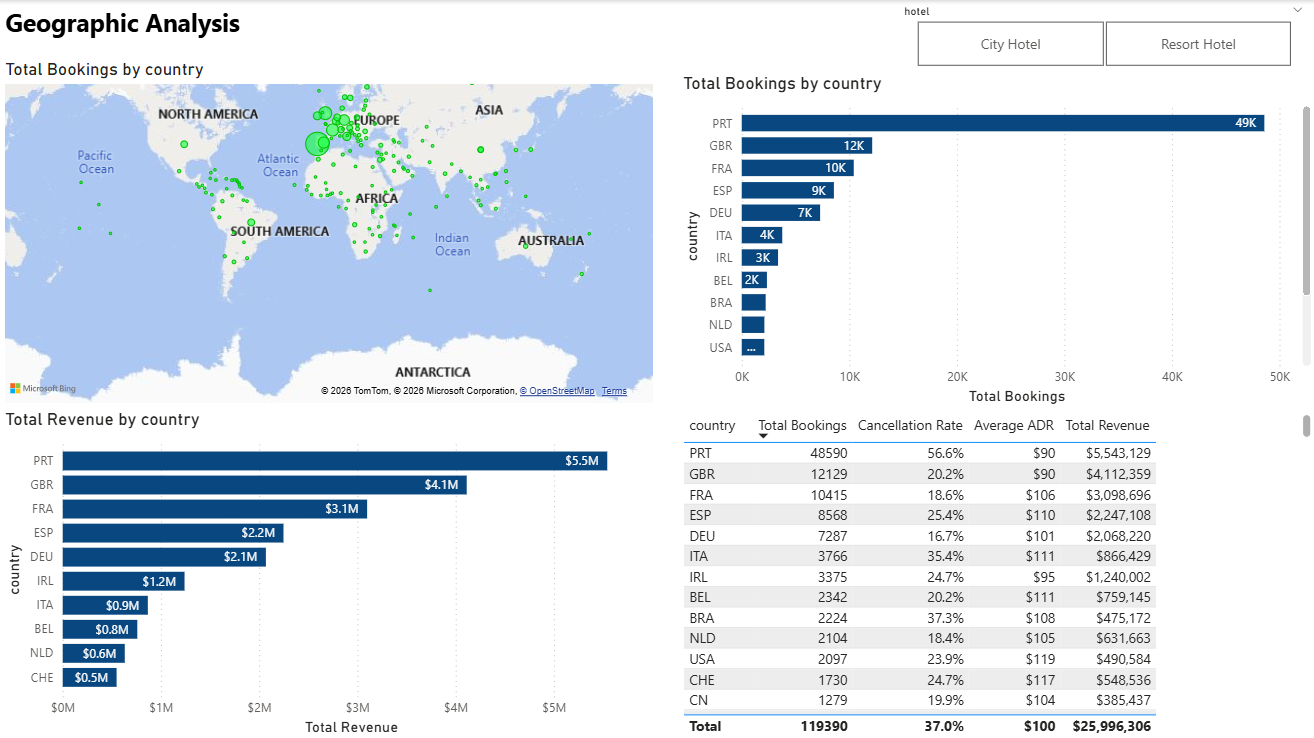

This screenshot's page, from the dashboard's own definition file:
{"tool":"powerbi","page":{"name":"Geographic Analysis","canvas":[1280,720],"ordinal":5},"visuals":[{"type":"textbox","box":[0,0,280.2,48.1],"z":0},{"type":"map","fields":{"Category":["hotel_bookings_clean.country"],"Size":["hotel_bookings_clean.Total Bookings"]},"box":[0,57.4,640,340.4],"z":1},{"type":"clusteredBarChart","fields":{"Category":["hotel_bookings_clean.country"],"Y":["hotel_bookings_clean.Total Bookings"]},"box":[659.5,71,620.5,326.8],"z":2},{"type":"clusteredBarChart","fields":{"Y":["hotel_bookings_clean.Total Revenue"],"Category":["hotel_bookings_clean.country"]},"box":[0,397.8,640,321.9],"z":3},{"type":"tableEx","fields":{"Values":["hotel_bookings_clean.country","hotel_bookings_clean.Total Bookings","hotel_bookings_clean.Cancellation Rate","hotel_bookings_clean.Average ADR","hotel_bookings_clean.Total Revenue"]},"box":[659.5,397.8,620.5,321.9],"z":4},{"type":"slicer","fields":{"Values":["hotel_bookings_clean.hotel"]},"box":[866.6,0,413.4,71],"z":5}]}

Visuals, with their boxes in screenshot pixels (x1, y1, x2, y2), scaled from the page's 1280x720 canvas onto the 1314x738 screenshot:
textbox: 0/0/288/49
map - hotel_bookings_clean.country x hotel_bookings_clean.Total Bookings: 0/59/657/408
clusteredBarChart - hotel_bookings_clean.country x hotel_bookings_clean.Total Bookings: 677/73/1313/408
clusteredBarChart - hotel_bookings_clean.Total Revenue x hotel_bookings_clean.country: 0/408/657/737
tableEx - hotel_bookings_clean.country x hotel_bookings_clean.Total Bookings: 677/408/1313/737
slicer - hotel_bookings_clean.hotel: 890/0/1313/73
